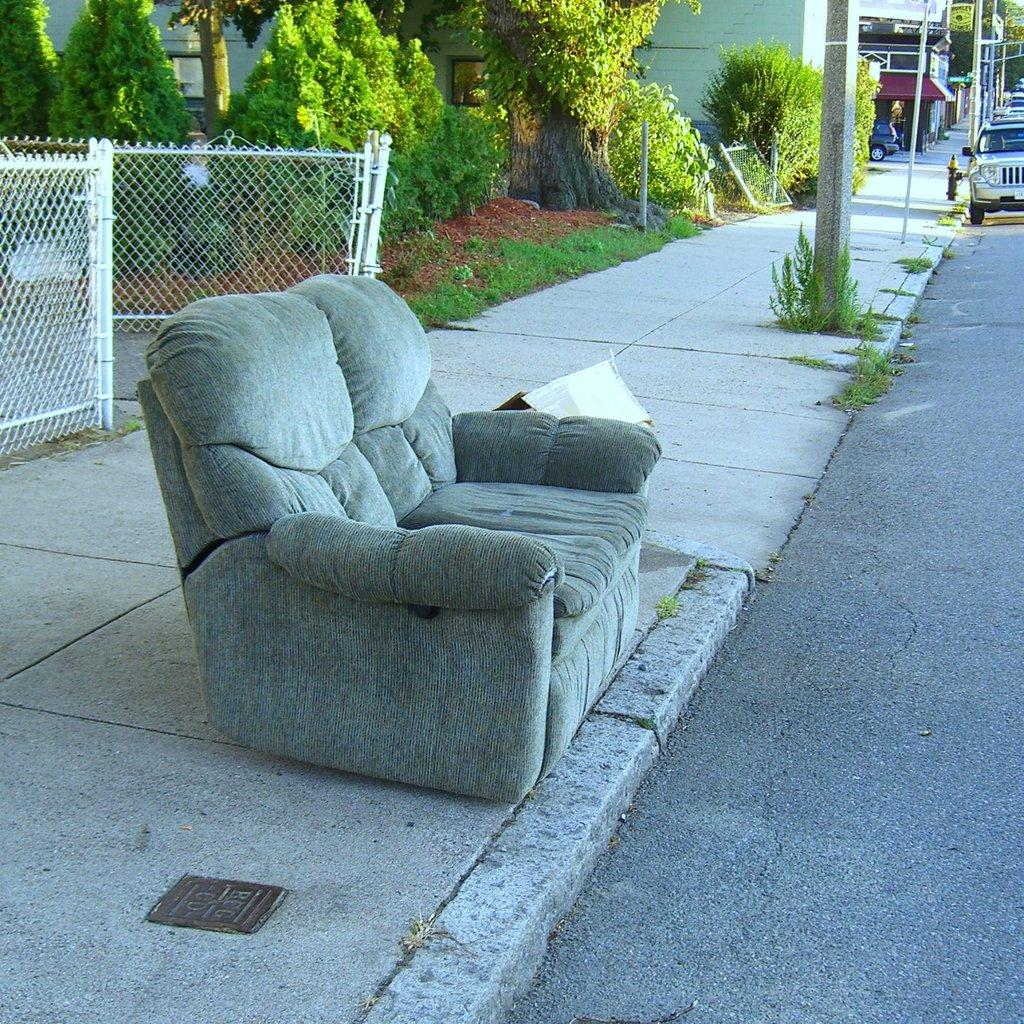Chair: (137, 272, 662, 805)
